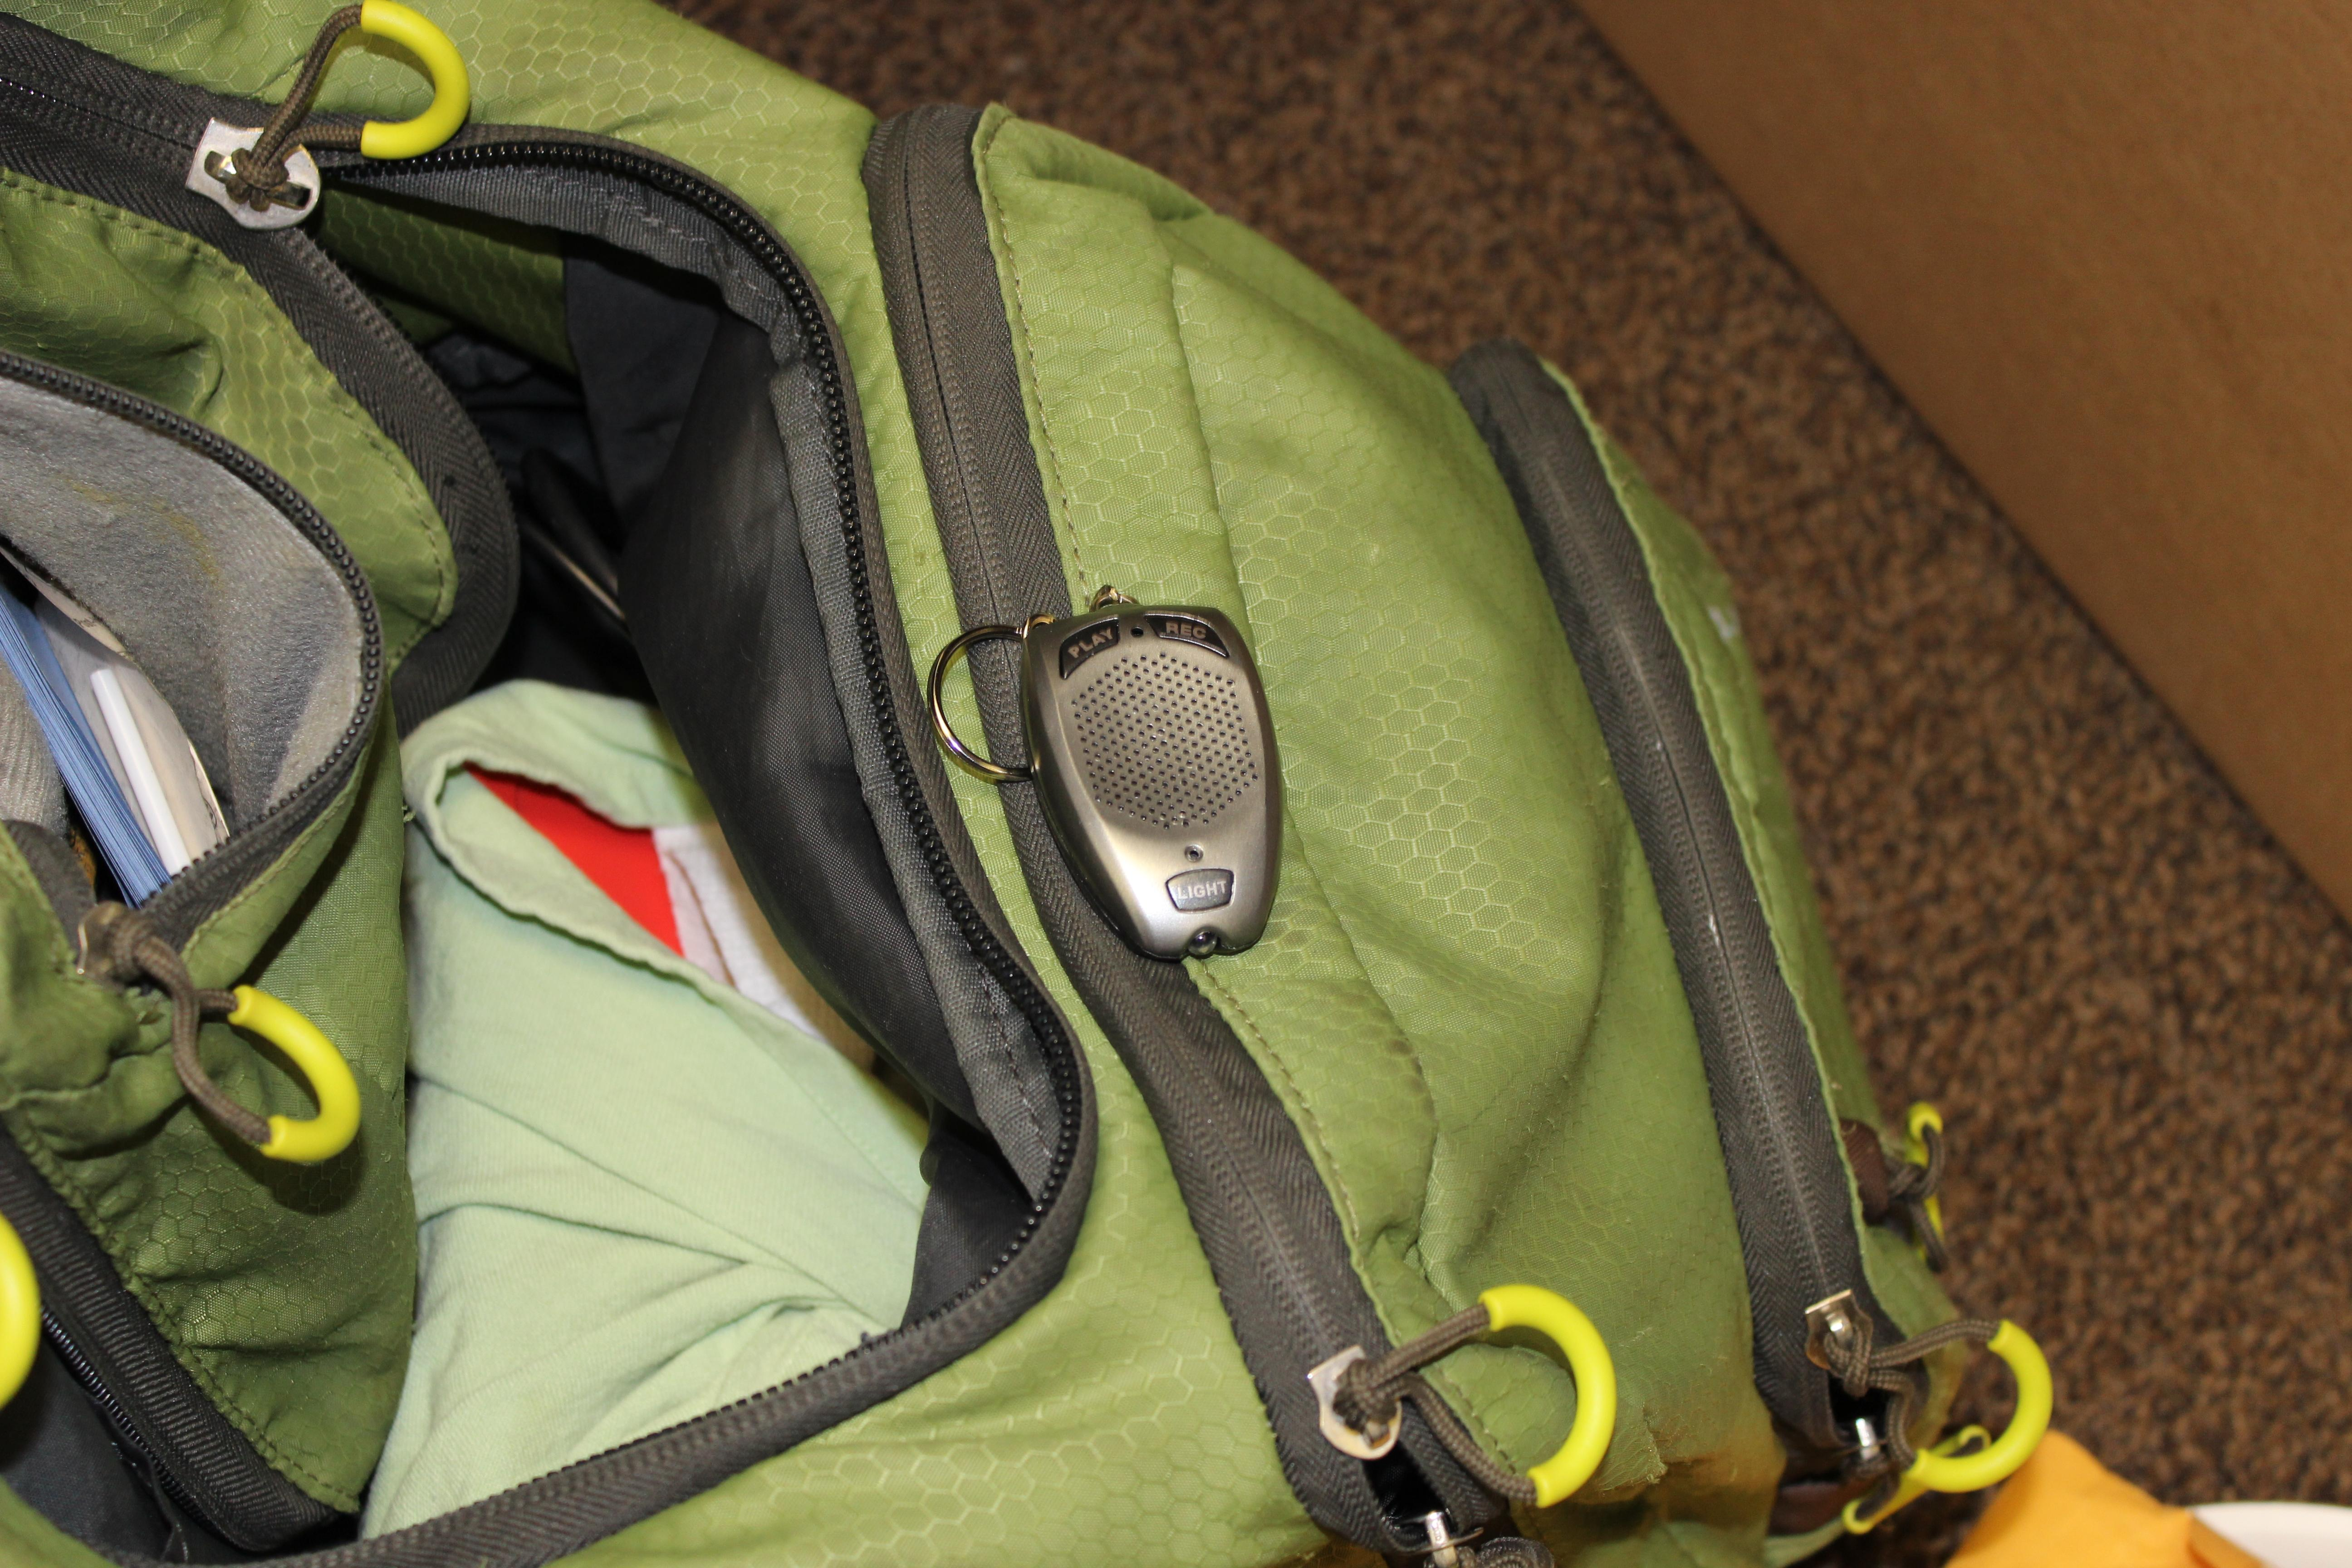voiceRecorder: (903, 565, 1340, 996)
